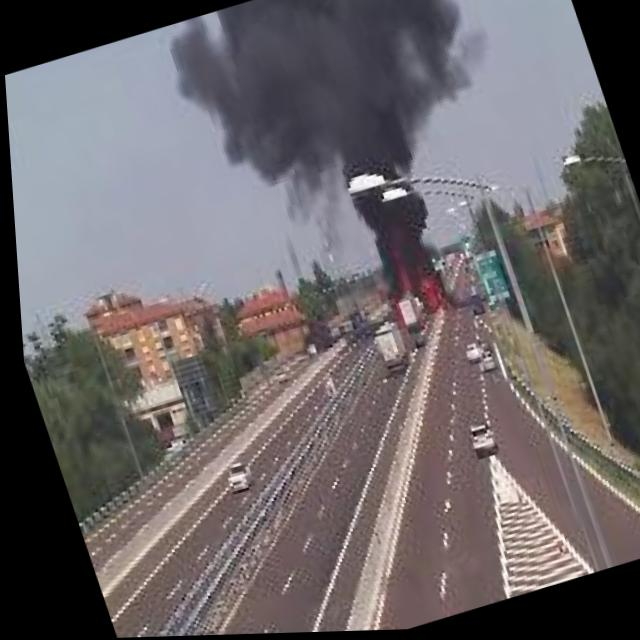fire: (363, 212, 456, 337)
